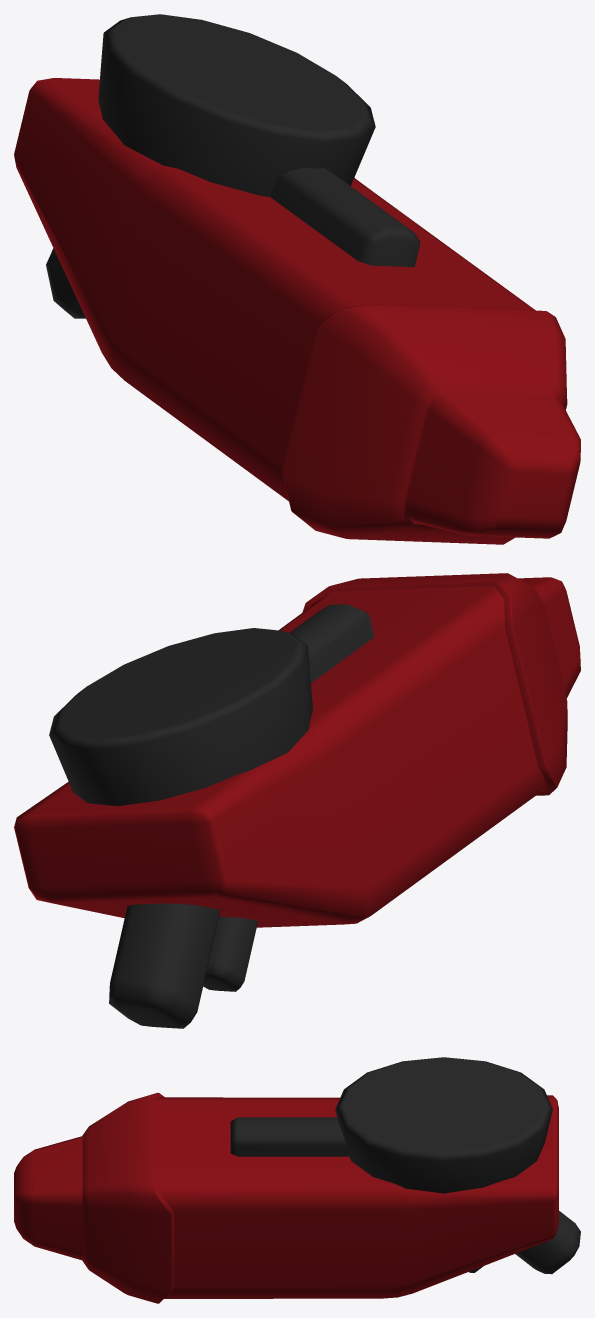
File: Ship_Boos_01_Weapon_L_01.fbx
3 renders of one model, top to bottom at view 1: azimuth 30°, elevation 25°; view 2: azimuth 150°, elevation 25°; view 3: azimuth 270°, elevation 25°, orthographic. The views are drawn at different scales.
Parts seen in each view (by area): view 1: Ship_Boos_01_Weapon_L_01; view 2: Ship_Boos_01_Weapon_L_01; view 3: Ship_Boos_01_Weapon_L_01.
Boxes of the visible parts, x1,y1,x2,y2 form: Ship_Boos_01_Weapon_L_01: (14, 14, 580, 544); Ship_Boos_01_Weapon_L_01: (14, 573, 580, 1028); Ship_Boos_01_Weapon_L_01: (14, 1057, 580, 1303).
Size of the model in its own units: 211 by 236 by 584.
